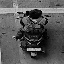motor: (17, 8, 46, 58)
